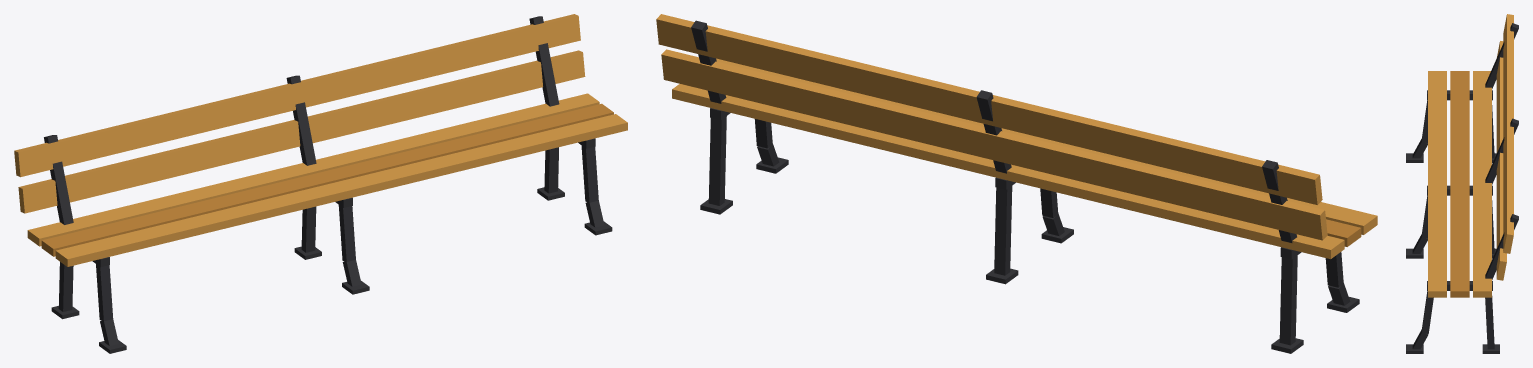
The picture shows the model from 3 angles, left to right: view 1: azimuth 30°, elevation 25°; view 2: azimuth 150°, elevation 25°; view 3: azimuth 270°, elevation 25°; orthographic projection. The views are drawn at different scales.
Visible parts, largest first — view 1: base; view 2: base; view 3: base.
Part boxes in pixels (x1,y1,x2,y2): base: (14, 14, 627, 353); base: (656, 14, 1377, 353); base: (1406, 14, 1518, 353).
Bounding box in the file's own units: 3 × 0.8664 × 0.6486.
